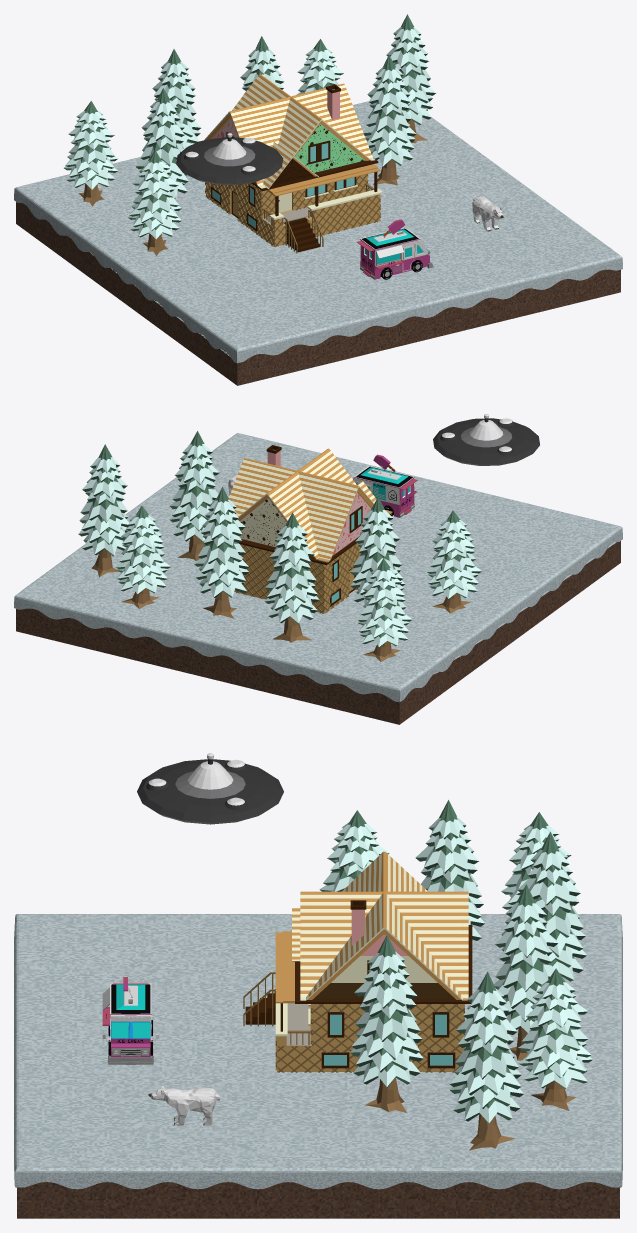
3 views of the same model, one above another, from view 1: azimuth 30°, elevation 25°; view 2: azimuth 150°, elevation 25°; view 3: azimuth 270°, elevation 25° (orthographic). The views are drawn at different scales.
Parts seen in each view (by area): view 1: Cube.003, Cube.1102, OBJRANDOM_UFO, VEHICLES_ICE_CREAM_TRUCK, ANIMAL_OSO_POLAR; view 2: Cube.003, Cube.1102, OBJRANDOM_UFO, VEHICLES_ICE_CREAM_TRUCK; view 3: Cube.003, Cube.1102, OBJRANDOM_UFO, VEHICLES_ICE_CREAM_TRUCK, ANIMAL_OSO_POLAR.
Boxes of the visible parts, x1,y1,x2,y2 form: Cube.003: (14,14,622,385); Cube.1102: (197,74,382,253); OBJRANDOM_UFO: (176,133,283,184); VEHICLES_ICE_CREAM_TRUCK: (357,219,433,279); ANIMAL_OSO_POLAR: (472,196,503,231); Cube.003: (14,431,622,724); Cube.1102: (229,445,395,613); OBJRANDOM_UFO: (433,414,539,465); VEHICLES_ICE_CREAM_TRUCK: (353,454,417,517); Cube.003: (14,800,622,1218); Cube.1102: (243,851,472,1072); OBJRANDOM_UFO: (137,753,283,824); VEHICLES_ICE_CREAM_TRUCK: (102,977,158,1064); ANIMAL_OSO_POLAR: (148,1086,219,1125).
Size of the model in its own units: 4040 by 2024 by 4040.
Materials: 36 (4 with a texture image).
